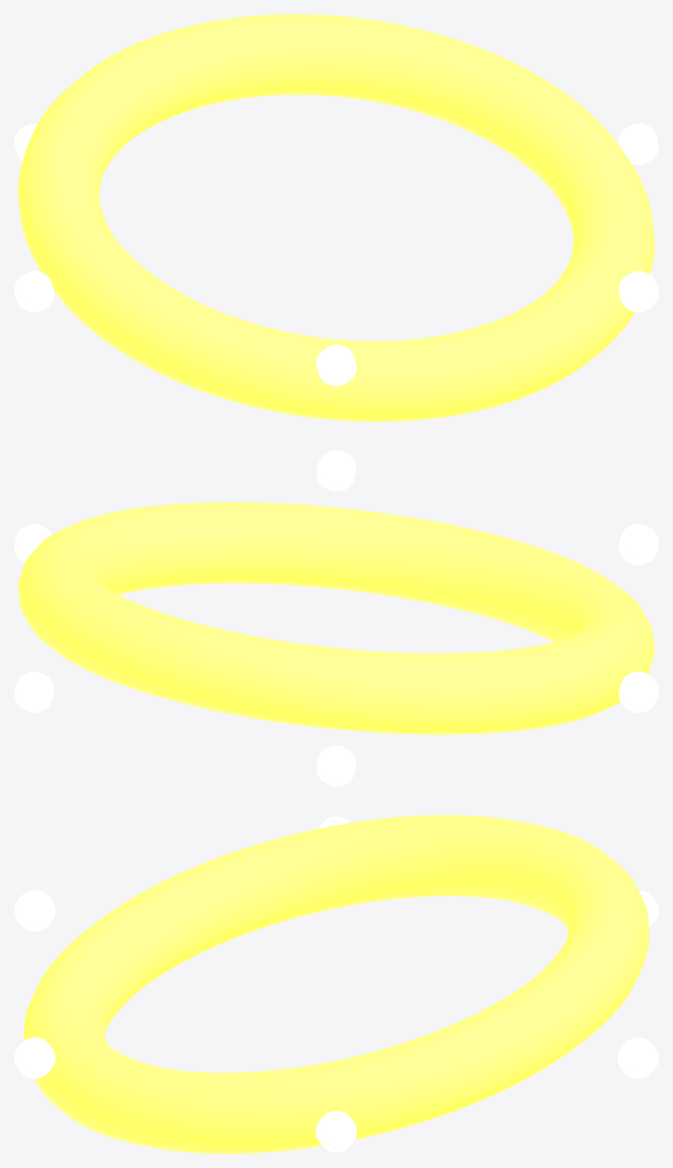
The model's file is halo.glb.
3 views of the same model, one above another, from view 1: azimuth 30°, elevation 25°; view 2: azimuth 150°, elevation 25°; view 3: azimuth 270°, elevation 25° (orthographic).
Parts seen in each view (by area): view 1: svatozar, svatozar_jiskra_5, svatozar_jiskra_4, svatozar_jiskra_3, svatozar_jiskra_0; view 2: svatozar, svatozar_jiskra_2, svatozar_jiskra_5, svatozar_jiskra_3, svatozar_jiskra_1, svatozar_jiskra_4, svatozar_jiskra_0; view 3: svatozar, svatozar_jiskra_1, svatozar_jiskra_4, svatozar_jiskra_5, svatozar_jiskra_0.
Part boxes in pixels (x1,y1,x2,y2): svatozar: (18,14,654,421); svatozar_jiskra_5: (618,271,658,312); svatozar_jiskra_4: (316,344,356,386); svatozar_jiskra_3: (14,271,54,312); svatozar_jiskra_0: (618,123,658,164); svatozar: (18,502,654,734); svatozar_jiskra_2: (316,745,356,786); svatozar_jiskra_5: (316,450,356,491); svatozar_jiskra_3: (618,671,658,712); svatozar_jiskra_1: (14,671,54,712); svatozar_jiskra_4: (618,524,658,565); svatozar_jiskra_0: (14,524,52,562); svatozar: (24,815,648,1153); svatozar_jiskra_1: (617,1037,658,1078); svatozar_jiskra_4: (14,890,55,931); svatozar_jiskra_5: (14,1037,55,1078); svatozar_jiskra_0: (315,1111,357,1152).
Size of the model in its own units: 0.636 by 0.1686 by 0.5556.
